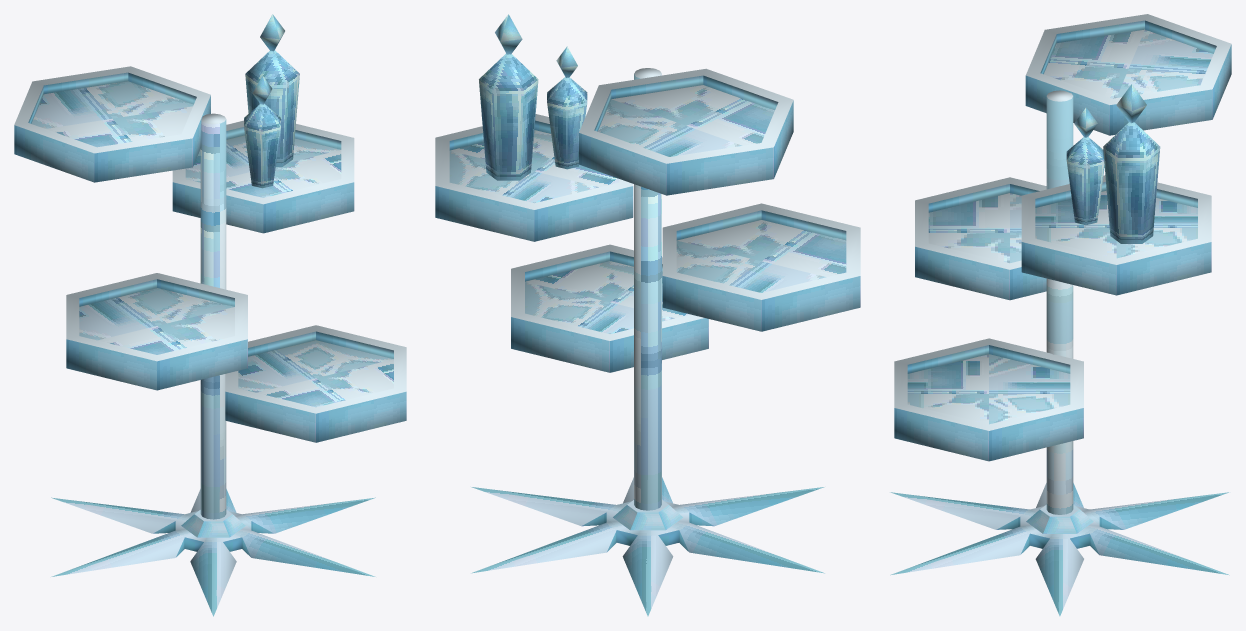
Rendered from int_ice_sidetable.dae.
3 renders of one model, left to right at view 1: azimuth 30°, elevation 25°; view 2: azimuth 150°, elevation 25°; view 3: azimuth 270°, elevation 25°, orthographic. The views are drawn at different scales.
Parts seen in each view (by area): view 1: int_ice_sidetable; view 2: int_ice_sidetable; view 3: int_ice_sidetable.
Boxes of the visible parts, x1,y1,x2,y2 form: int_ice_sidetable: (14, 14, 406, 616); int_ice_sidetable: (435, 14, 860, 616); int_ice_sidetable: (890, 14, 1231, 616).
Size of the model in its own units: 30.51 by 40.91 by 25.52.
Materials: 2 (2 with a texture image).
